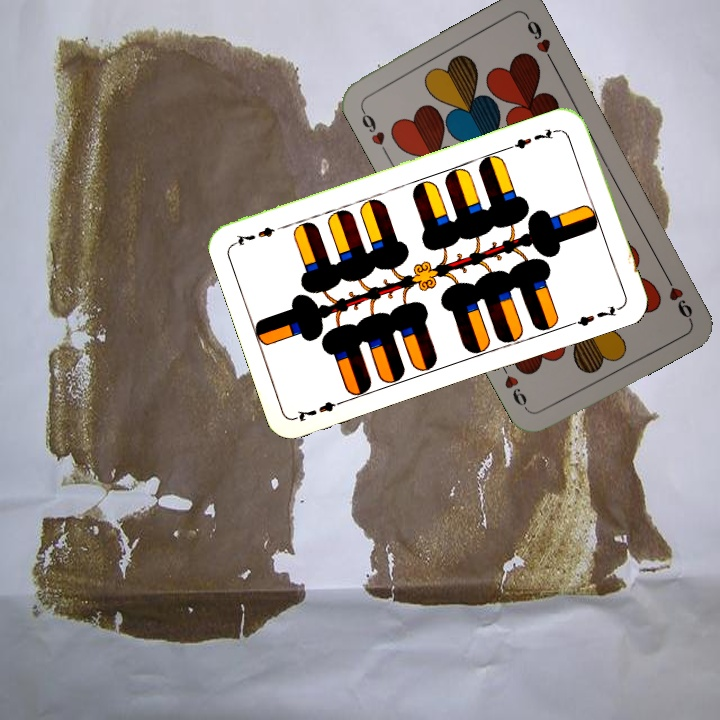E7: (292, 395, 349, 425), (505, 124, 563, 152)
H9: (659, 268, 695, 323), (356, 103, 391, 158)
